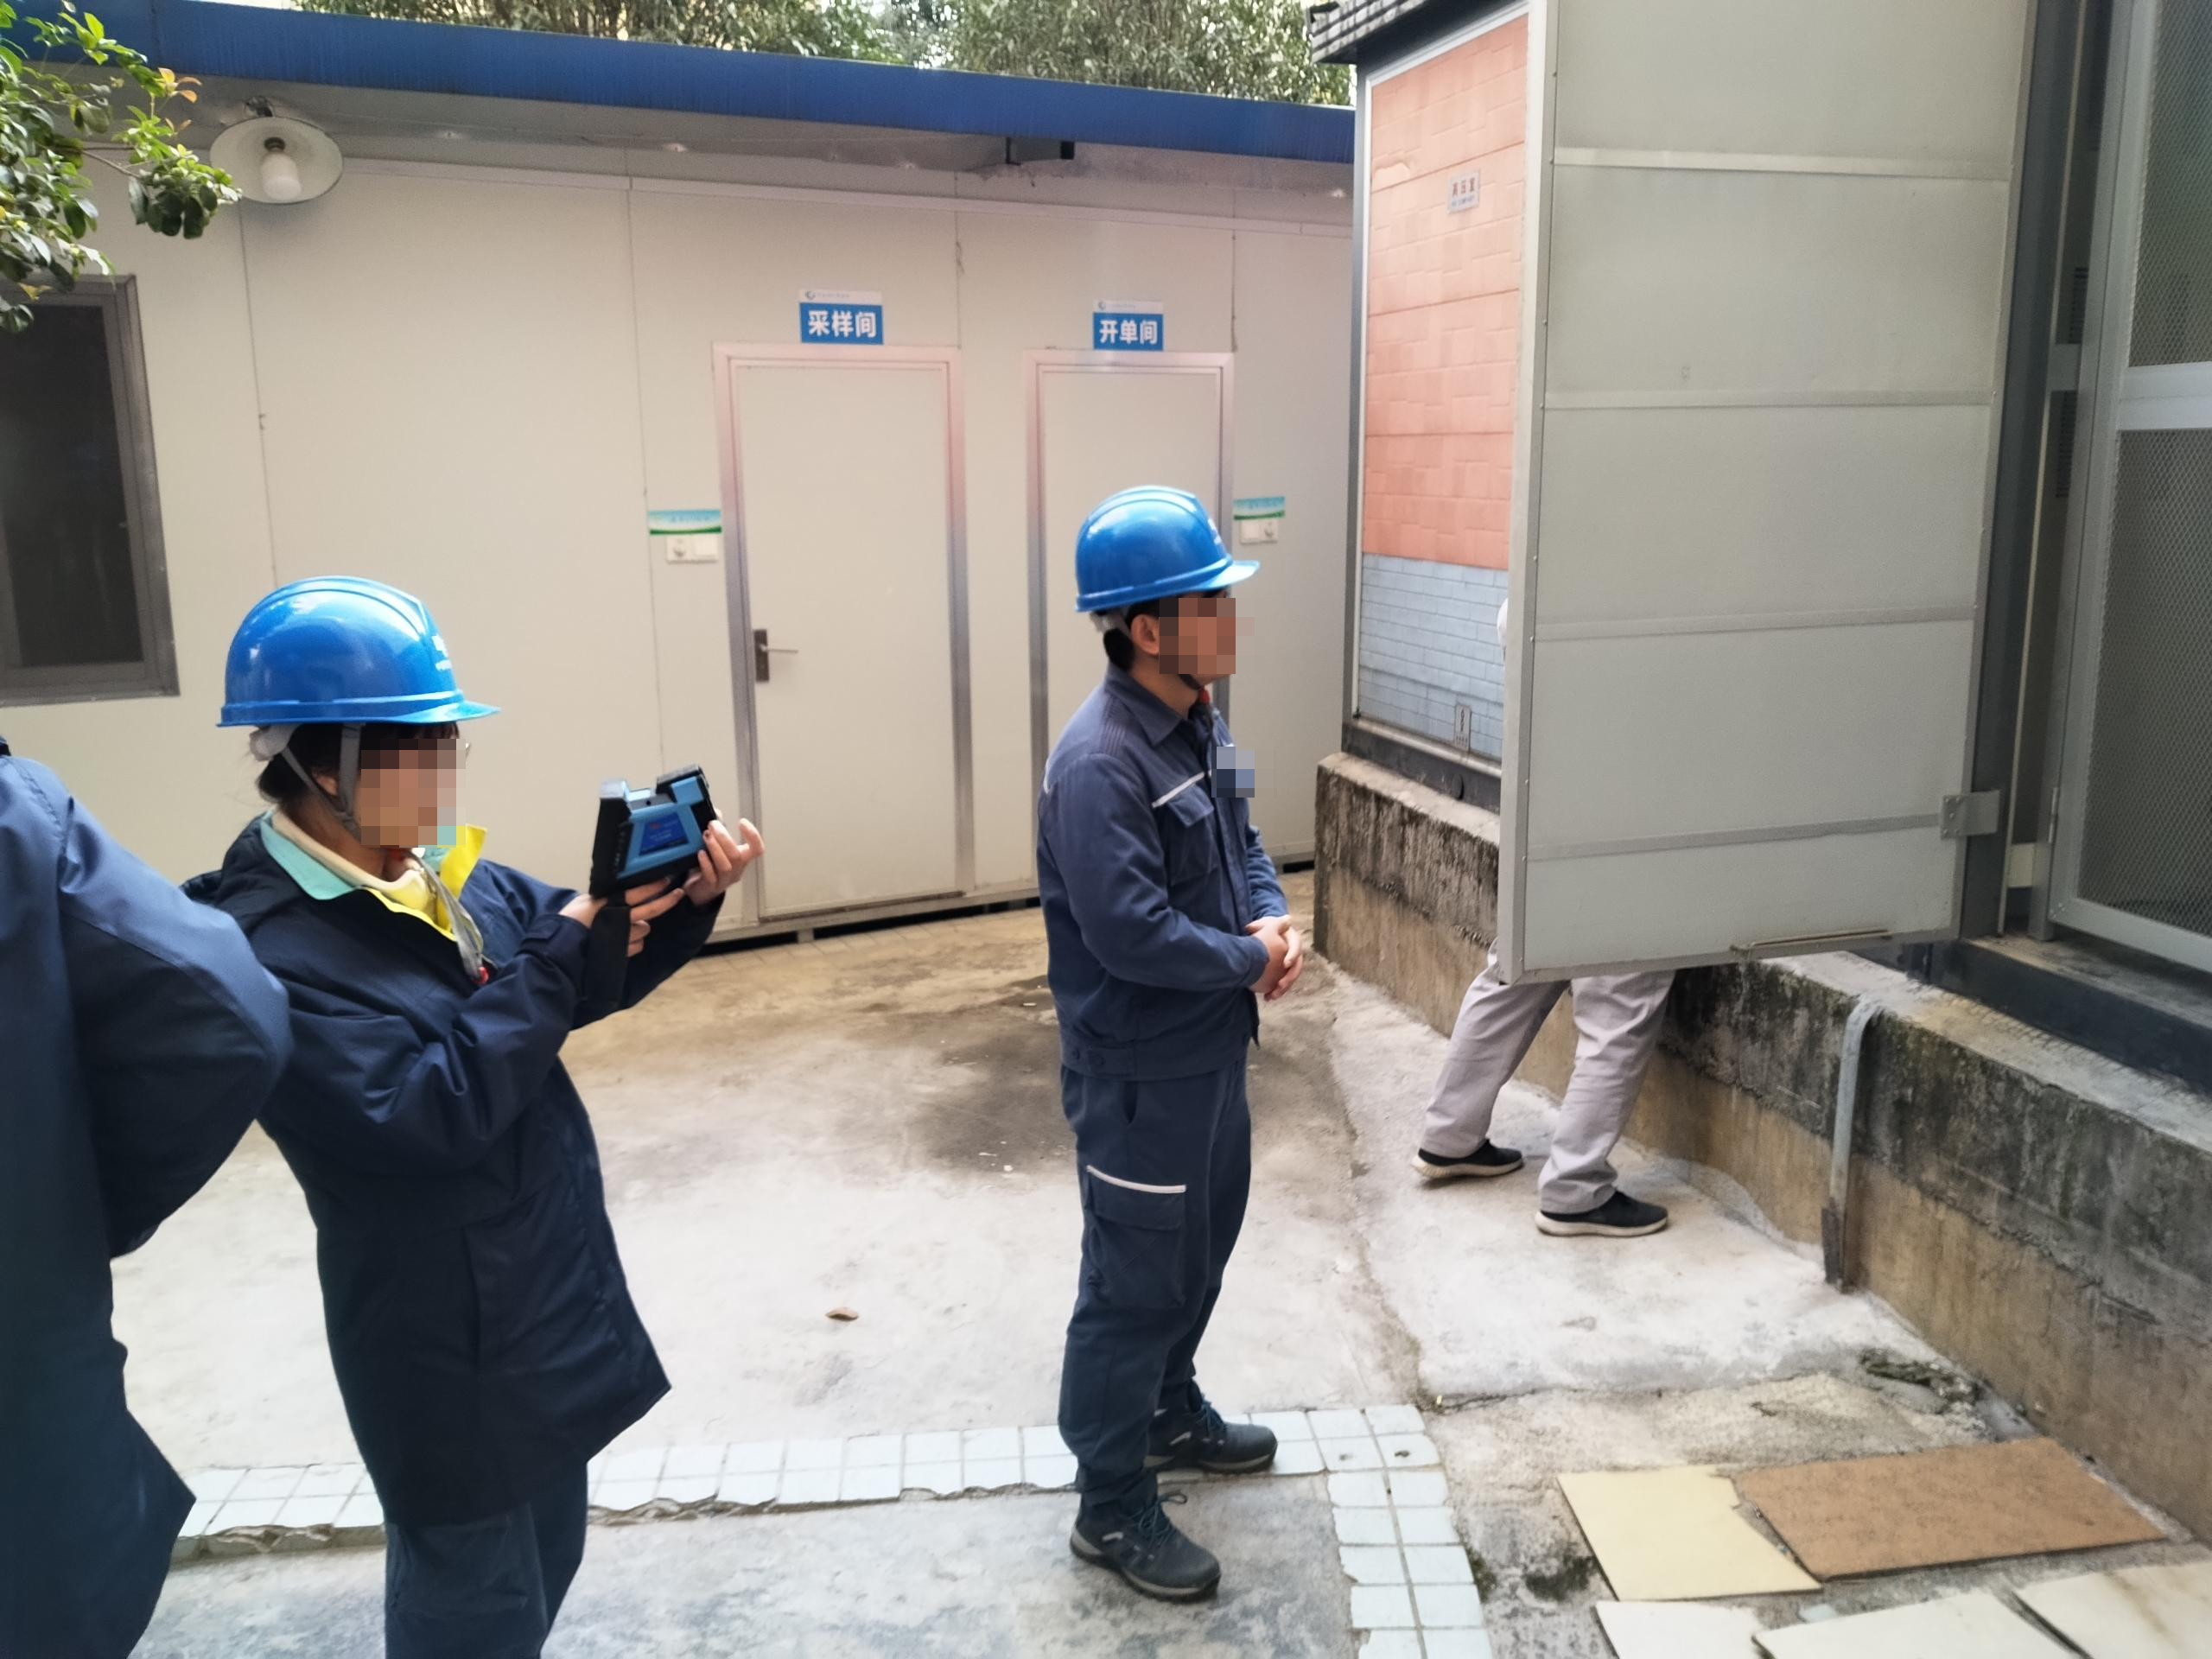downcloth: (1422, 933, 1683, 1208)
downsuit: (1052, 1059, 1259, 1469), (371, 1460, 594, 1659)
halt: (207, 573, 501, 880), (1071, 484, 1251, 681)
hand: (558, 869, 683, 964), (683, 813, 769, 910), (1249, 910, 1306, 1011)
inear: (297, 739, 419, 833), (1109, 605, 1209, 679)
person: (164, 573, 766, 1657), (1, 436, 293, 1657), (1033, 478, 1311, 1594), (1408, 933, 1693, 1245)
upcloth: (175, 808, 731, 1528)
upsuit: (3, 755, 291, 1659), (1034, 667, 1287, 1052)
